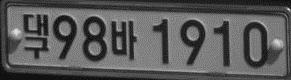0: (242, 20, 268, 67)
1: (211, 19, 237, 67), (150, 19, 176, 63)
8: (81, 15, 107, 61)
9: (179, 18, 206, 65), (52, 14, 77, 60)
대구_V: (23, 14, 49, 59)
바: (111, 19, 136, 59)
